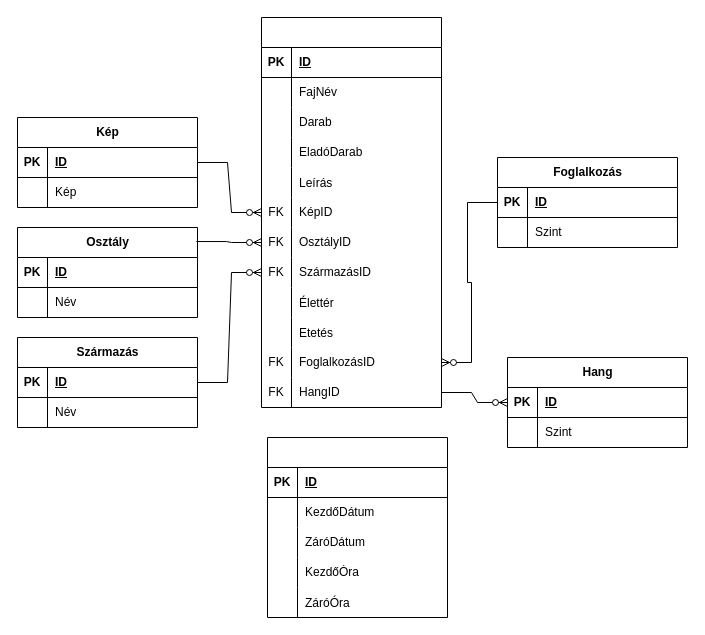
This 705x635 diagram has some shape labels left out. Here are the shapes that lost their labels. From the top down, the box of each, then its label:
(260, 16, 442, 408): Állat
(266, 436, 448, 618): Nyitvatartás
